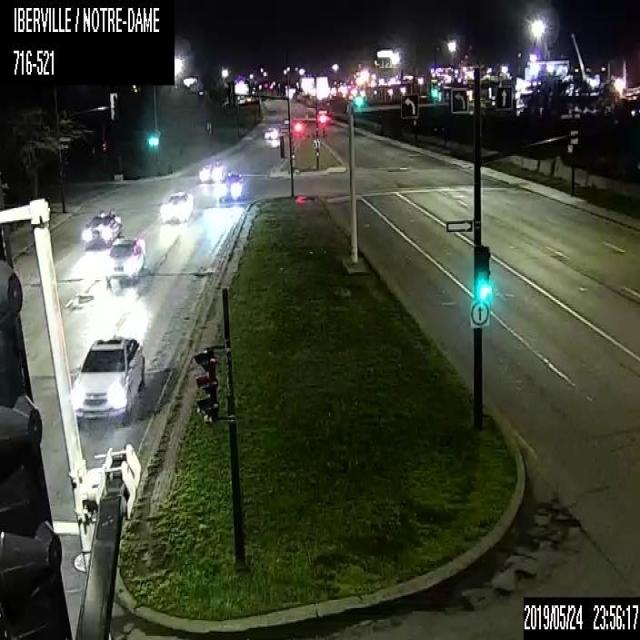vehicle: (73, 333, 146, 418), (106, 237, 146, 281), (84, 209, 122, 248), (158, 190, 195, 222), (218, 171, 244, 200), (198, 158, 224, 180), (263, 126, 278, 137)
